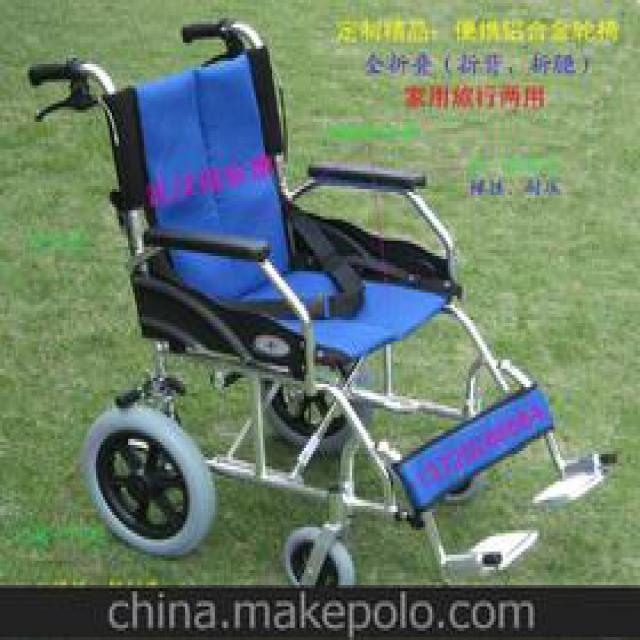wheelchair: (18, 12, 629, 576)
